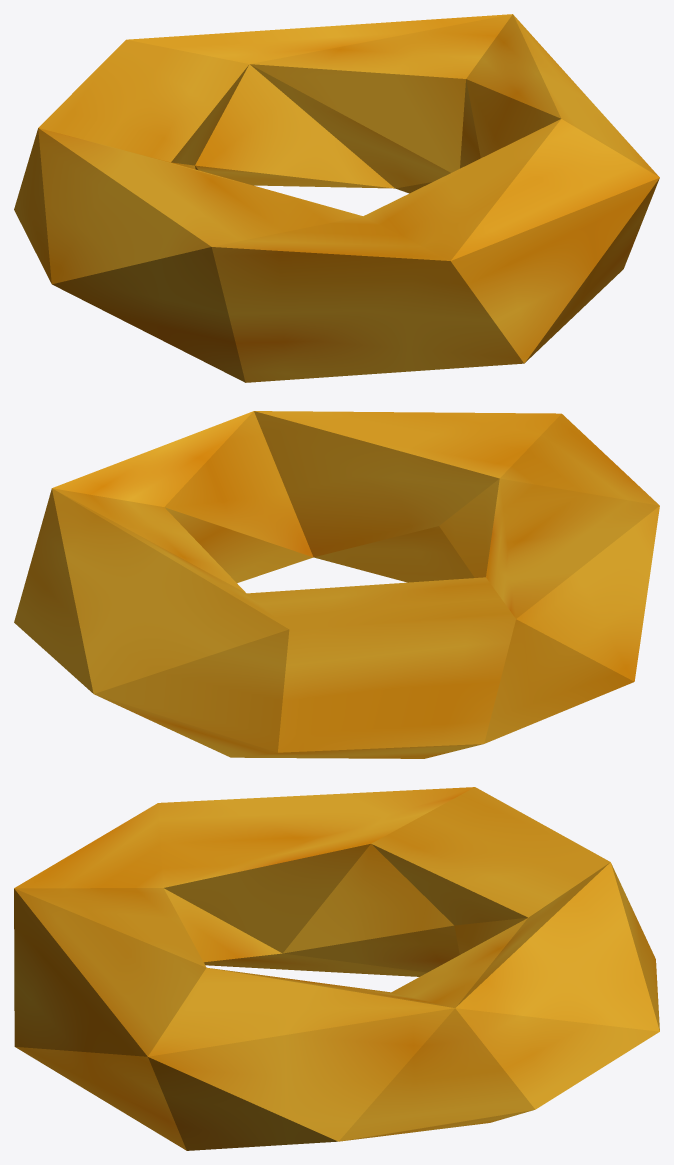
File: onion_rings.fbx
The picture shows the model from 3 angles, top to bottom: view 1: azimuth 30°, elevation 25°; view 2: azimuth 150°, elevation 25°; view 3: azimuth 270°, elevation 25°; orthographic projection. The views are drawn at different scales.
Parts seen in each view (by area): view 1: Torus; view 2: Torus; view 3: Torus.
Part boxes in pixels (x1,y1,x2,y2): Torus: (14,14,659,382); Torus: (14,411,659,758); Torus: (14,787,659,1150).
Bounding box in the file's own units: 0.0991 × 0.0278 × 0.097.
1 material, 1 textured.
